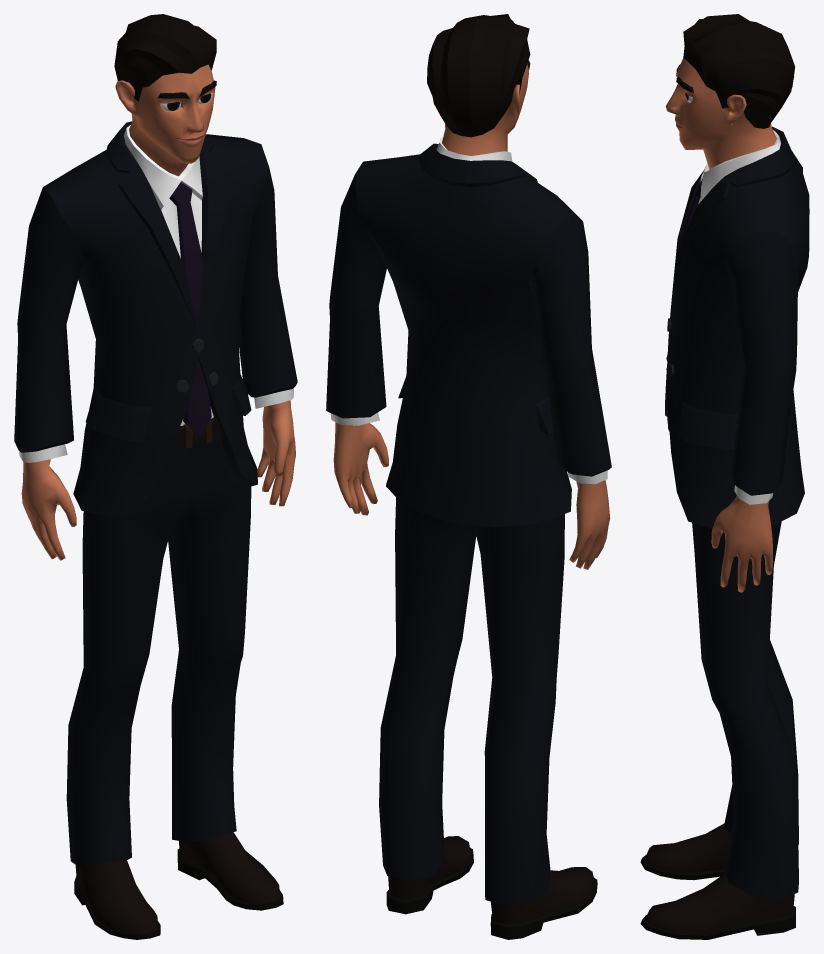
Rendered from Man_In_Suit.fbx.
3 renders of one model, left to right at view 1: azimuth 30°, elevation 25°; view 2: azimuth 150°, elevation 25°; view 3: azimuth 270°, elevation 25°, orthographic.
Visible parts, largest first — view 1: man_in_suit; view 2: man_in_suit; view 3: man_in_suit.
Part boxes in pixels (bbox=[...]): man_in_suit: bbox=[14, 14, 297, 939]; man_in_suit: bbox=[326, 14, 611, 939]; man_in_suit: bbox=[640, 14, 809, 939].
Size of the model in its own units: 59.45 by 178 by 31.12.
